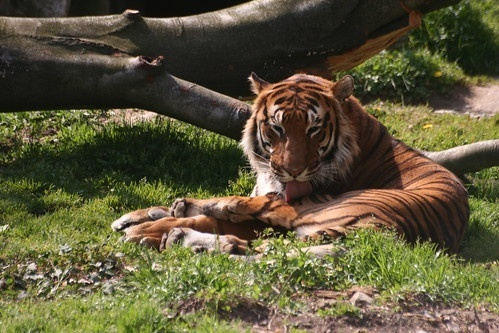tigre: (166, 70, 475, 259)
